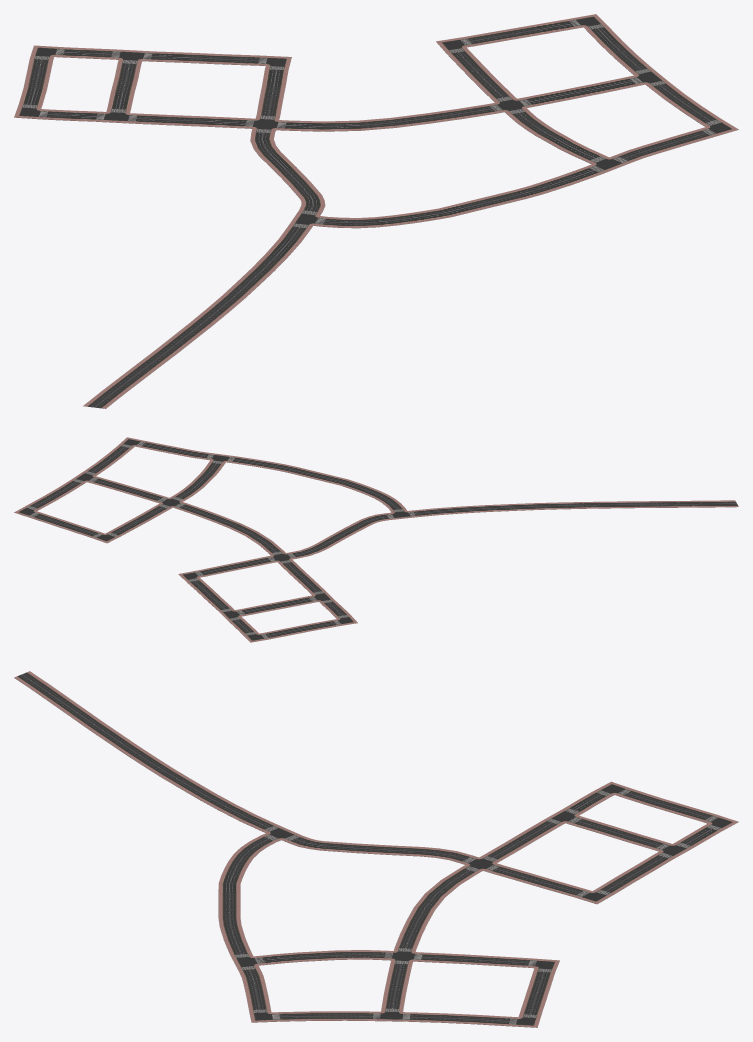
Rendered from jy_malu01.FBX.
3 renders of one model, top to bottom at view 1: azimuth 30°, elevation 25°; view 2: azimuth 150°, elevation 25°; view 3: azimuth 270°, elevation 25°, orthographic. The views are drawn at different scales.
Visible parts, largest first — view 1: jy_daolu01; view 2: jy_daolu01; view 3: jy_daolu01.
Part boxes in pixels (x1,y1,x2,y2): jy_daolu01: (14,14,738,408); jy_daolu01: (14,437,738,642); jy_daolu01: (14,671,738,1027).
Size of the model in its own units: 99366 by 30.03 by 85385.
